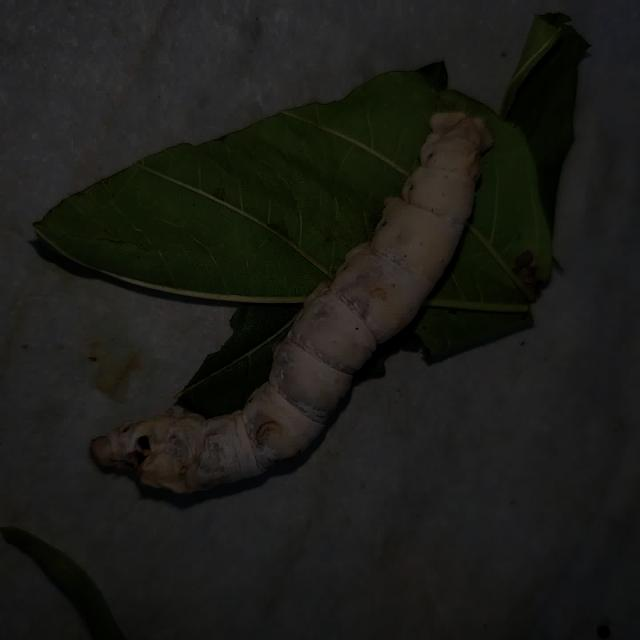Grasserie: (61, 88, 508, 521)
